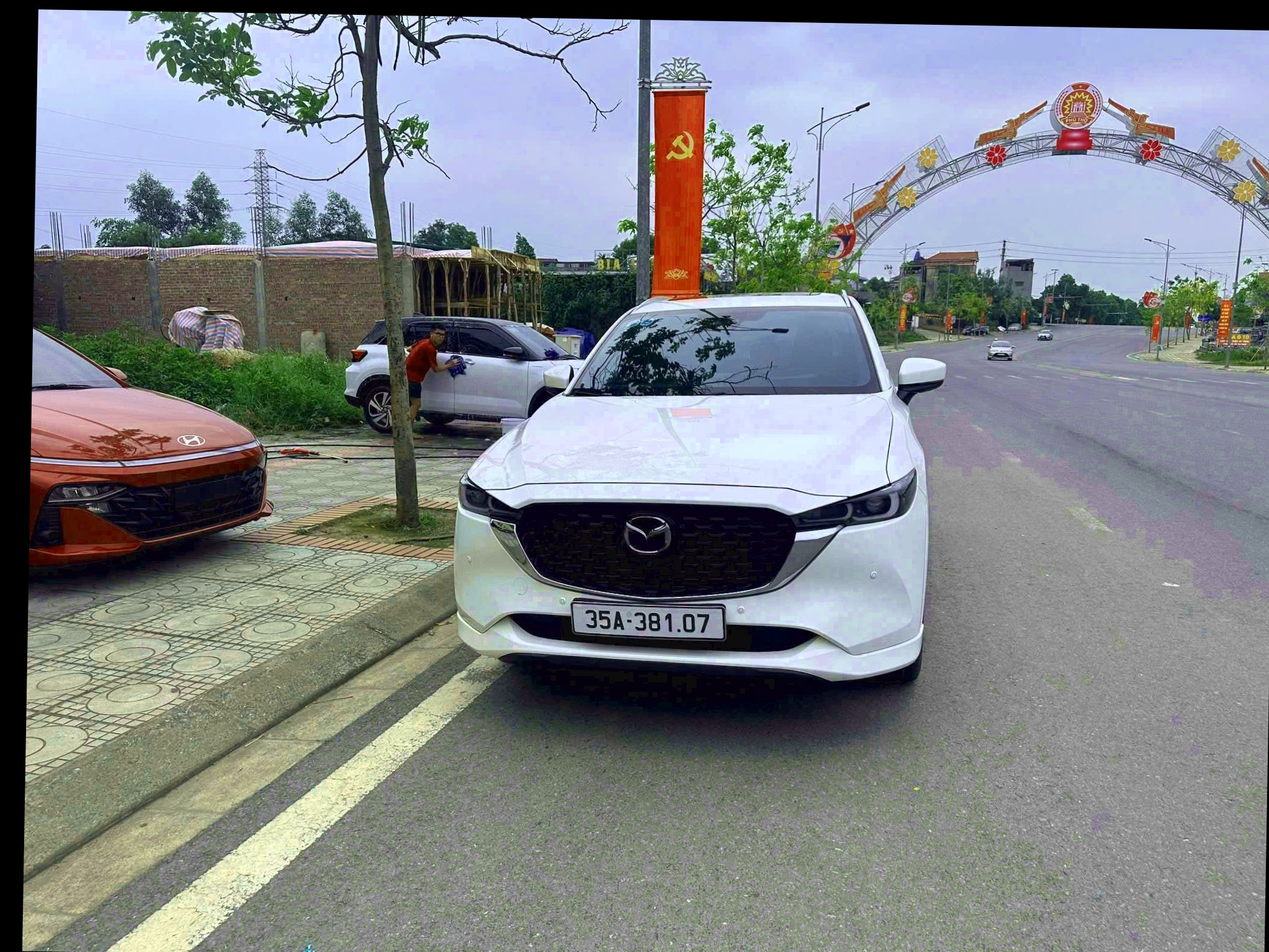Bien-so: (561, 584, 722, 630)
